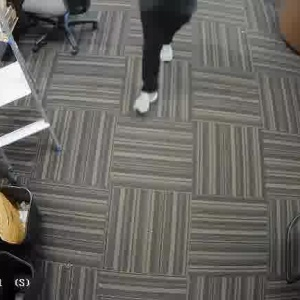person: (129, 0, 200, 116)
